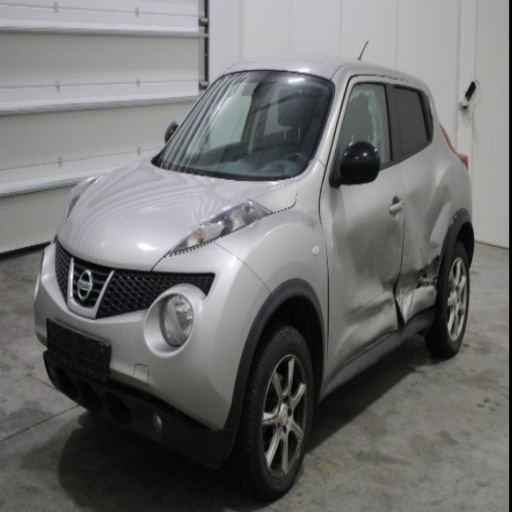dent: (332, 213, 402, 304), (405, 168, 454, 269), (339, 297, 396, 343), (395, 232, 417, 324)
